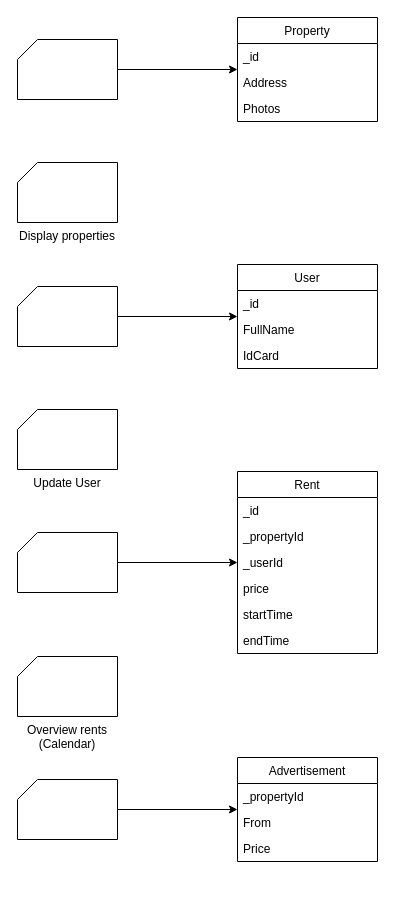
Image size: 395x907. Some labels were removed from this diagram. Each missing label, with the centre of its shape:
Create Property: point 67,69
Create user: point 67,316
Generate Add (Bot to FotoCasa, Idealista, ...): point 67,809
Rent to User: point 67,562
